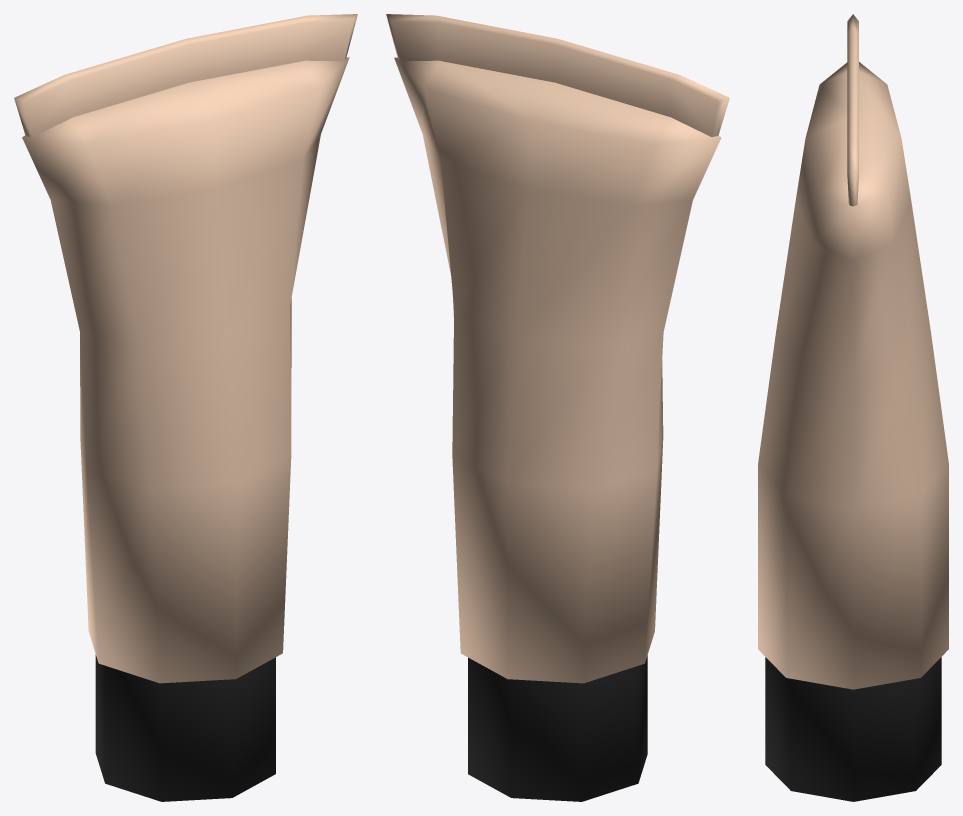
Rendered from BaseMaquiagem.fbx.
3 renders of one model, left to right at view 1: azimuth 30°, elevation 25°; view 2: azimuth 150°, elevation 25°; view 3: azimuth 270°, elevation 25°, orthographic. The views are drawn at different scales.
Visible parts, largest first — view 1: BaseMaquiagem; view 2: BaseMaquiagem; view 3: BaseMaquiagem.
Part boxes in pixels (<box>): BaseMaquiagem: <box>14,14,357,801</box>; BaseMaquiagem: <box>386,14,729,801</box>; BaseMaquiagem: <box>758,14,948,801</box>.
Size of the model in its own units: 8.07 by 16.25 by 4.09.
